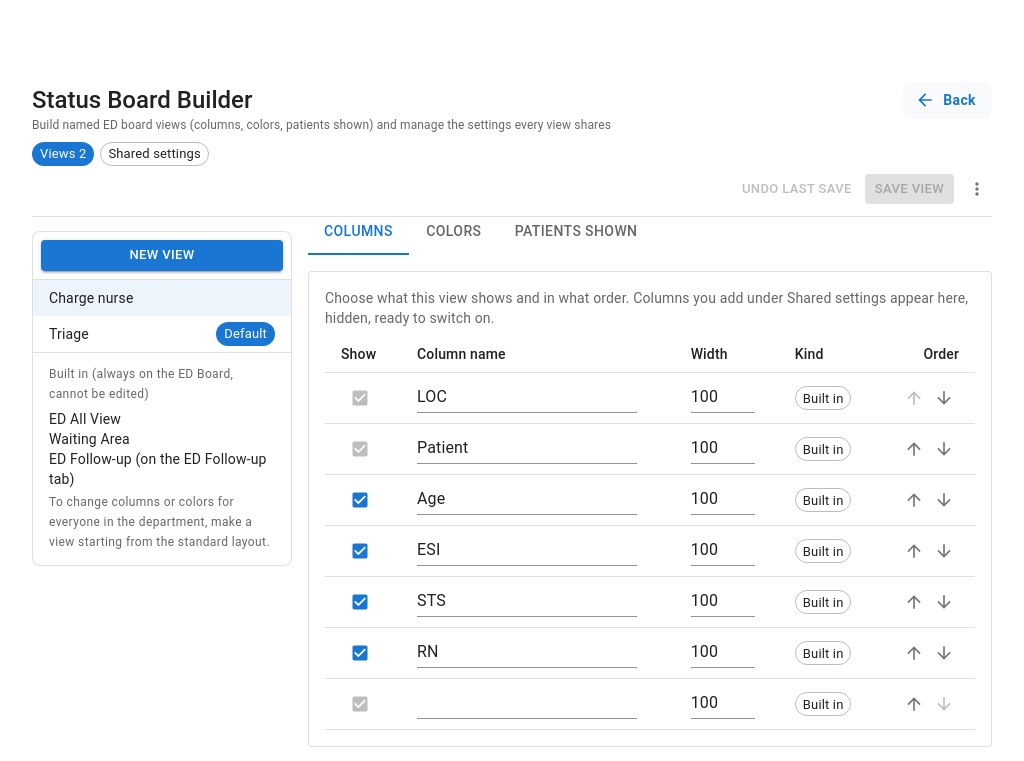
Scenario: conditions on the patient › a quick start adds a condition and it is saved with the view
Later steps or results of the test are not shown.
Expected: the button with test id "view-item-1" is shown, [33,280,291,316]
Click the tab "Patients shown": (576, 231) [499,207,653,255]
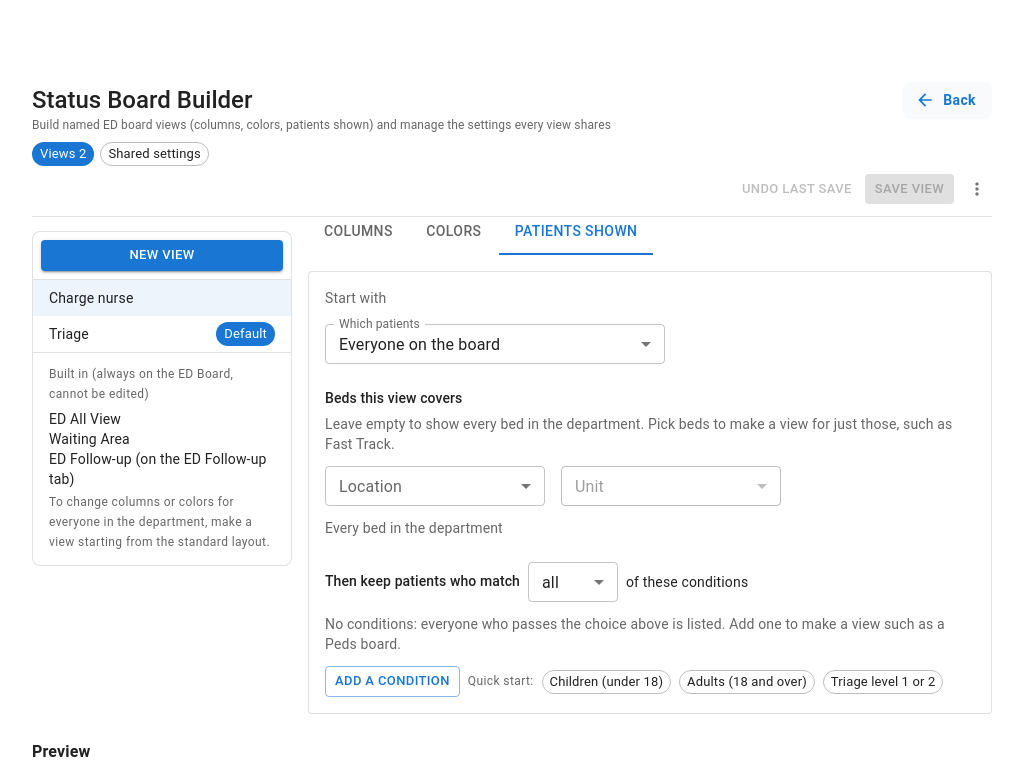
Expected: the text with test id "no-conditions" is shown, [325,614,975,654]
Click the button with test id "preset-children": (606, 682) [542,670,671,694]
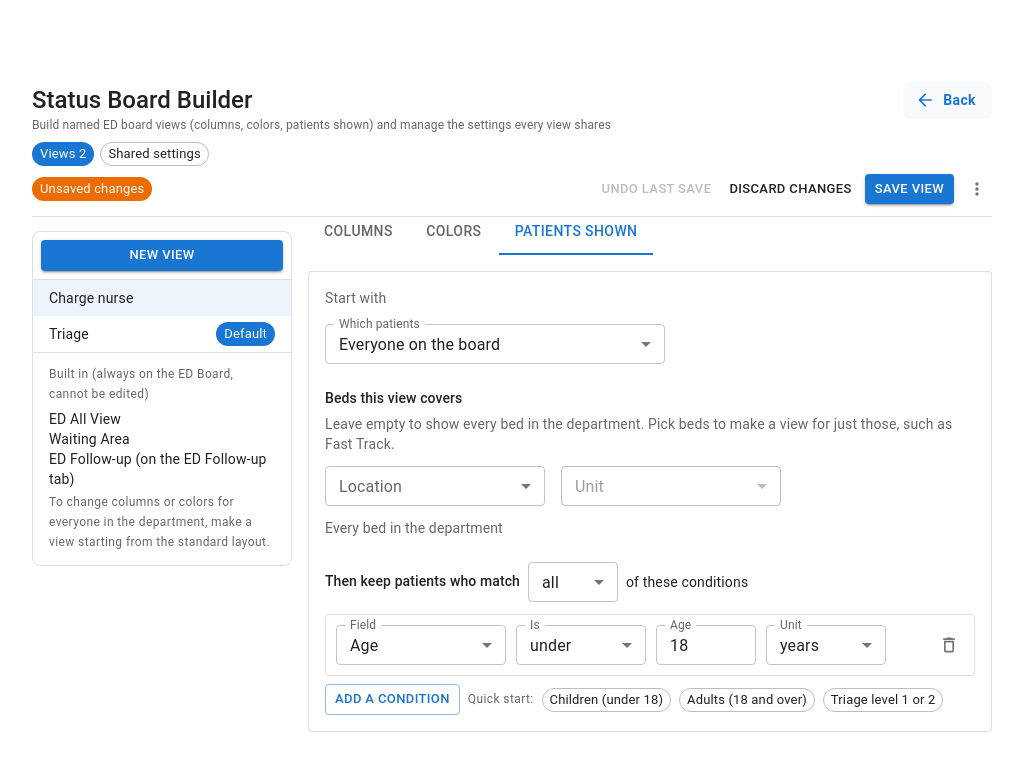
Expected: the element with test id "condition-0" is shown, [325,614,975,676]
Expected: the number field with test id "cond-value-0" holds "18", [656,625,756,665]
